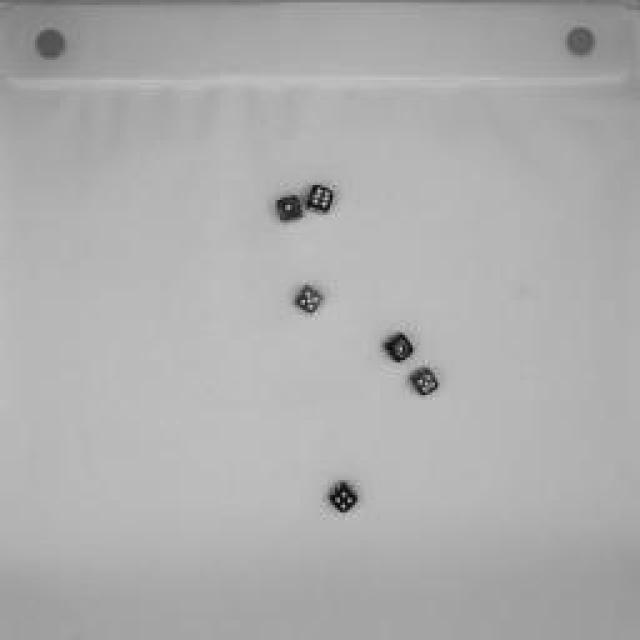dice_1: (381, 328, 419, 368), (271, 194, 309, 226)
dice_4: (322, 477, 362, 515)
dice_5: (408, 364, 442, 401), (294, 284, 324, 316)
dice_6: (302, 180, 338, 218)
